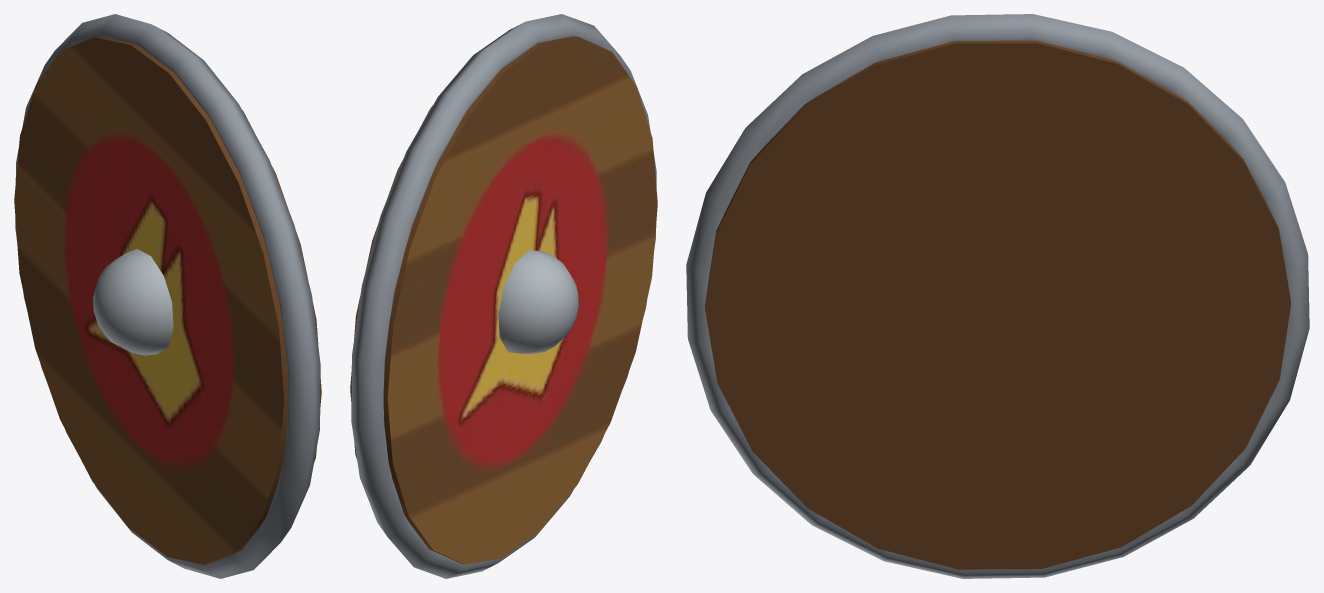
Rendered from back_shield.glb.
3 views of the same model, side by side, from view 1: azimuth 30°, elevation 25°; view 2: azimuth 150°, elevation 25°; view 3: azimuth 270°, elevation 25° (orthographic). The views are drawn at different scales.
Parts seen in each view (by area): view 1: Back; view 2: Back; view 3: Back.
Boxes of the visible parts, x1,y1,x2,y2 form: Back: (14,14,321,578); Back: (350,14,657,578); Back: (686,14,1309,578).
Bounding box in the file's own units: 0.111 × 0.638 × 0.638.
2 materials, 1 textured.
